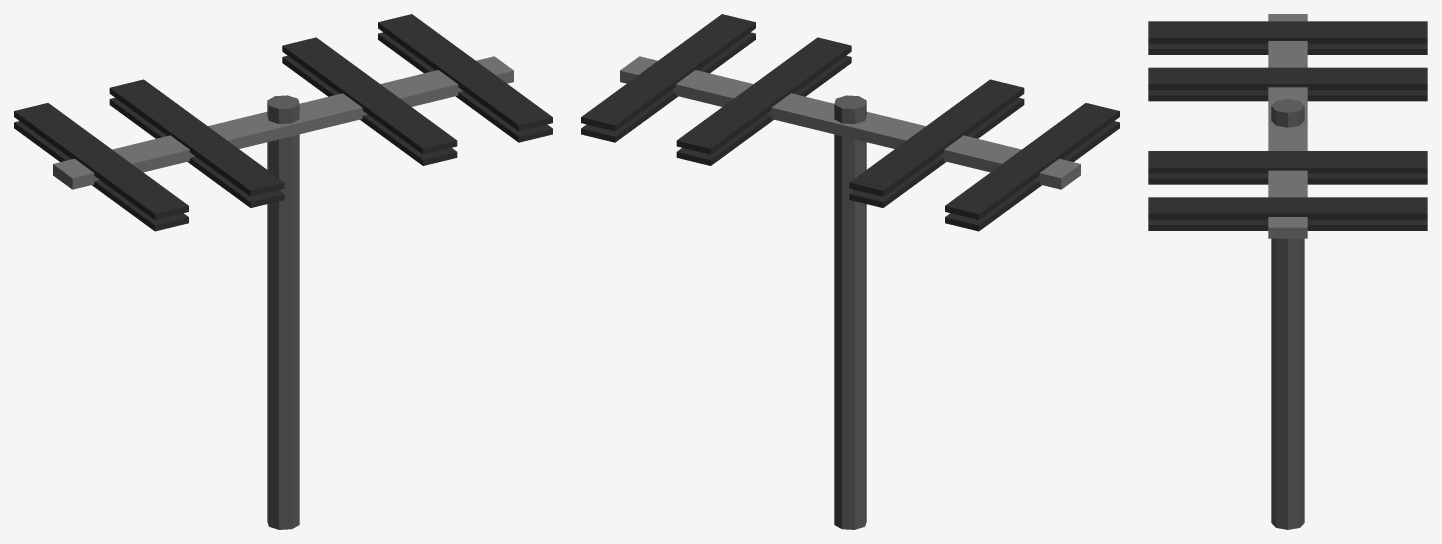
Rendered from Prop_Intel_01.fbx.
3 views of the same model, side by side, from view 1: azimuth 30°, elevation 25°; view 2: azimuth 150°, elevation 25°; view 3: azimuth 270°, elevation 25° (orthographic).
Parts seen in each view (by area): view 1: Prop_Intel_01; view 2: Prop_Intel_01; view 3: Prop_Intel_01.
Boxes of the visible parts, box(x1,y1,x2,y2) form: Prop_Intel_01: box(14, 14, 552, 529); Prop_Intel_01: box(581, 14, 1119, 529); Prop_Intel_01: box(1148, 14, 1427, 529).
Bounding box in the file's own units: 135 × 123 × 74.65.
